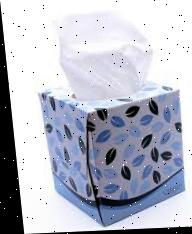cube: (36, 83, 188, 227)
